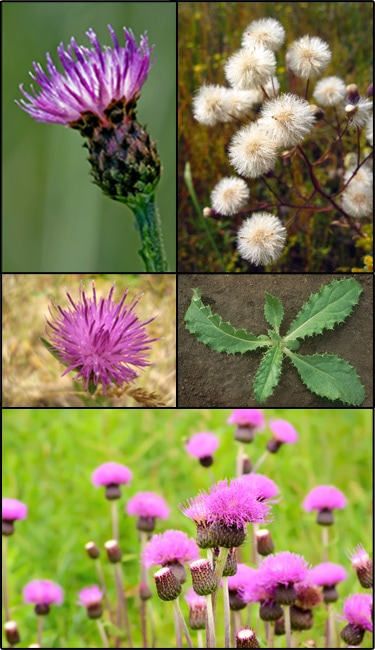thistle: (15, 27, 169, 212), (46, 284, 161, 400), (205, 477, 267, 561), (255, 554, 309, 603), (19, 572, 65, 624), (85, 465, 132, 503), (306, 486, 347, 529), (180, 498, 212, 550), (147, 535, 182, 580), (1, 494, 34, 541), (222, 410, 265, 446), (177, 433, 216, 471), (75, 585, 109, 623)
